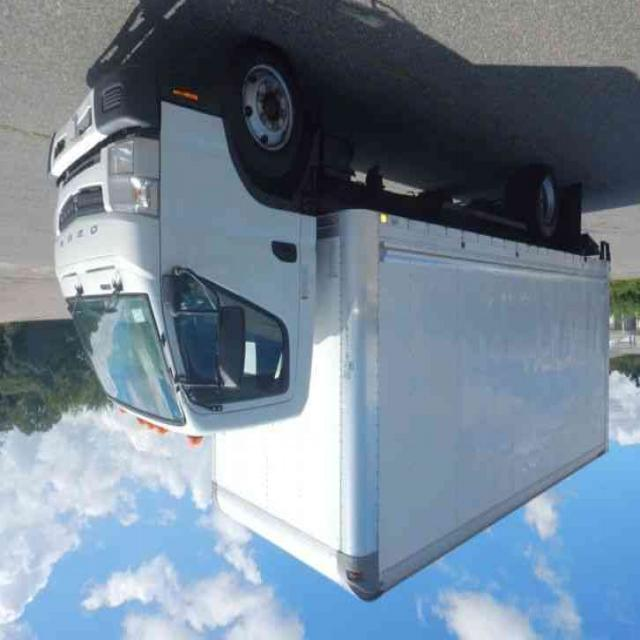truck: (46, 44, 614, 602)
